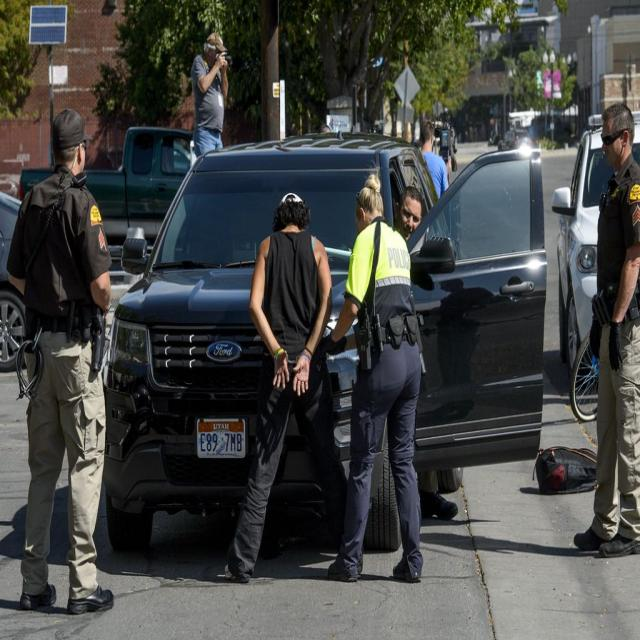police: (4, 99, 118, 640), (329, 162, 436, 593), (569, 95, 640, 575)
